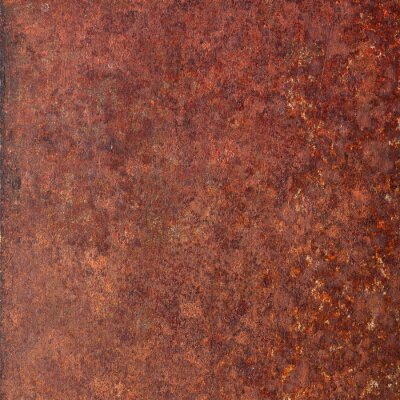rust: (1, 2, 400, 400)
